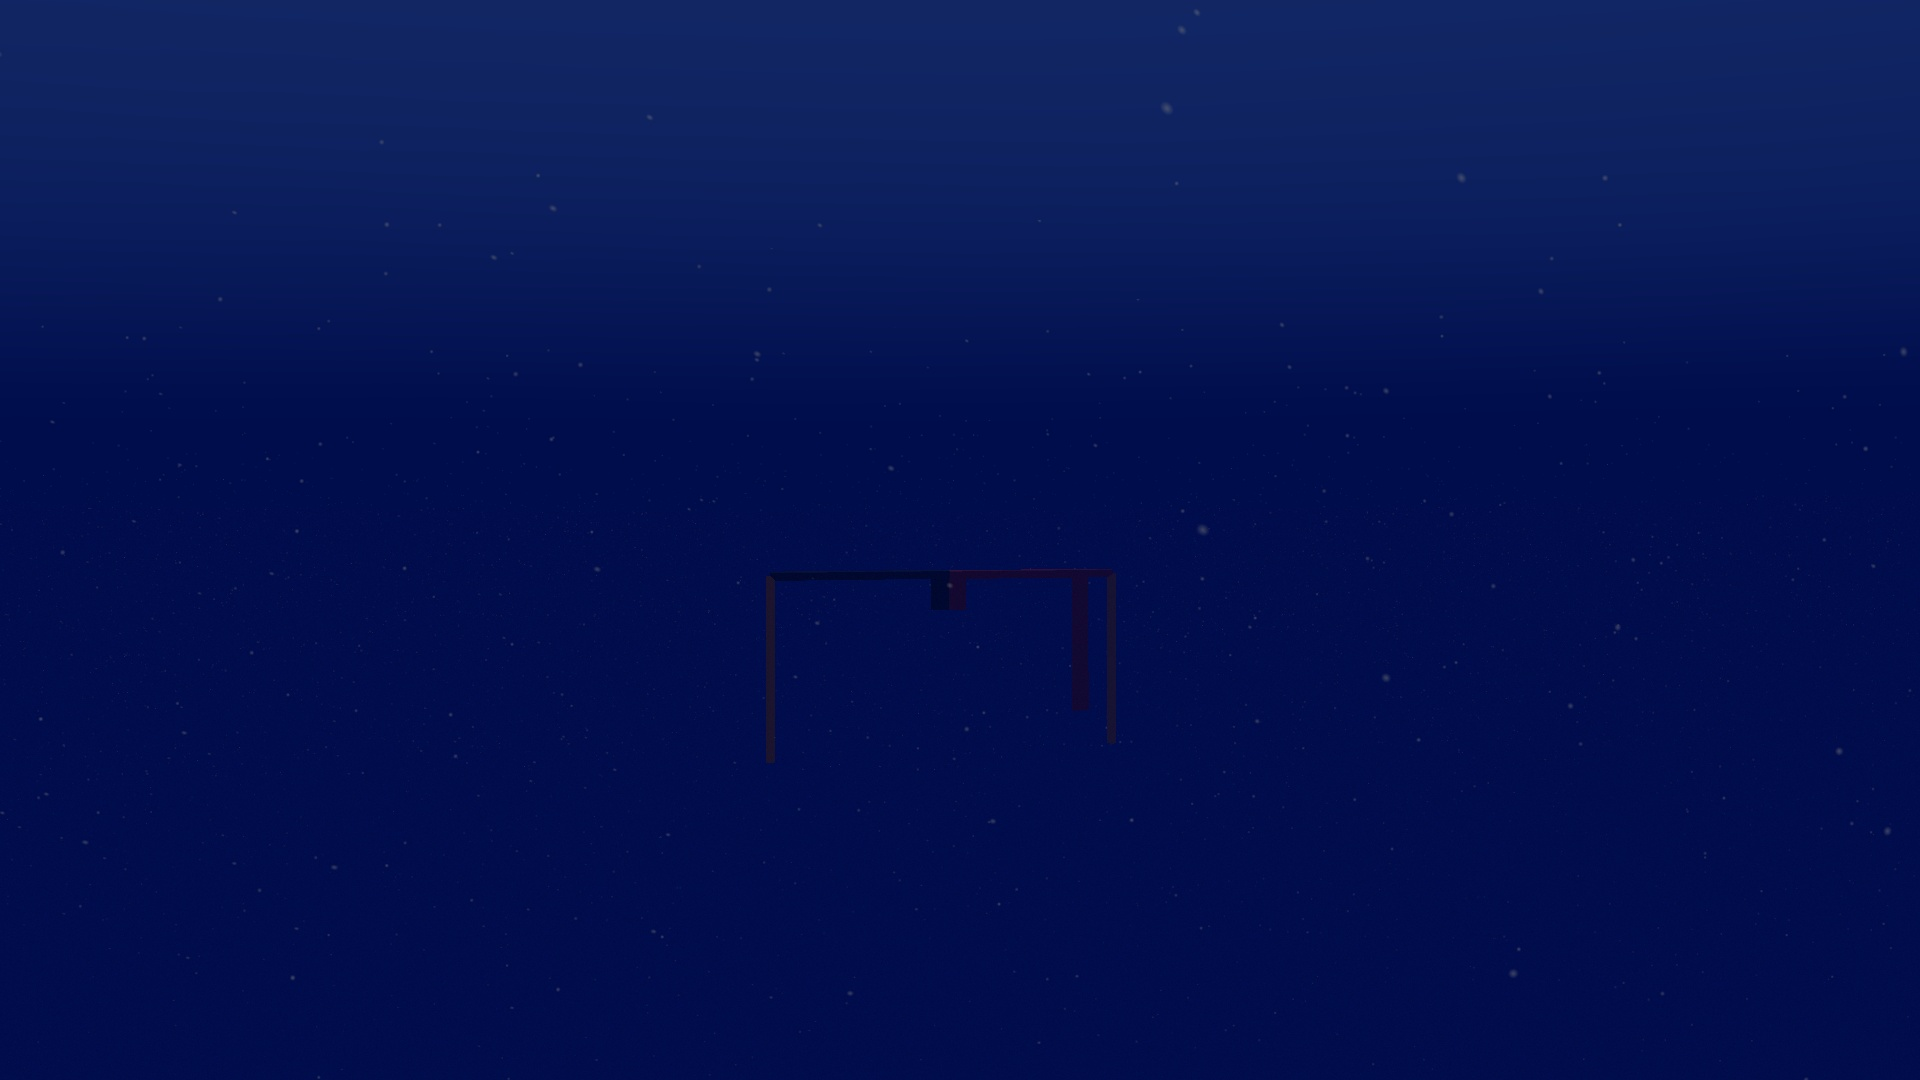Gate: (757, 560, 1124, 770)
